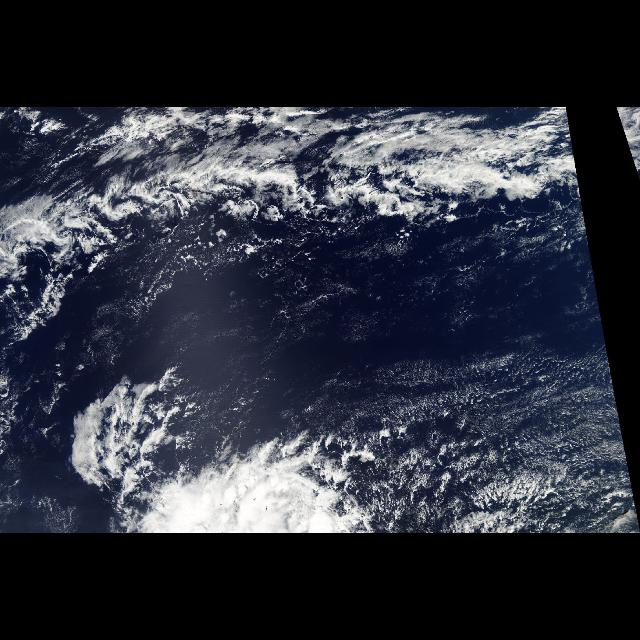Fish: (48, 108, 586, 256)
Sugar: (367, 353, 628, 532)
